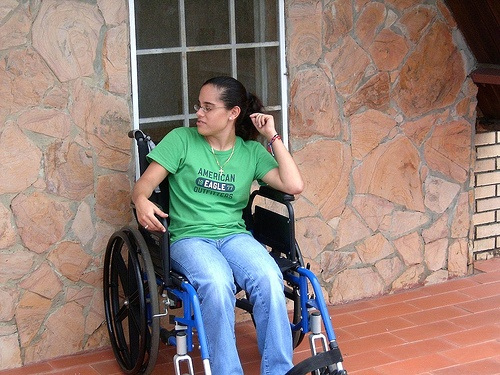head: (195, 74, 246, 140)
person: (132, 72, 306, 375)
